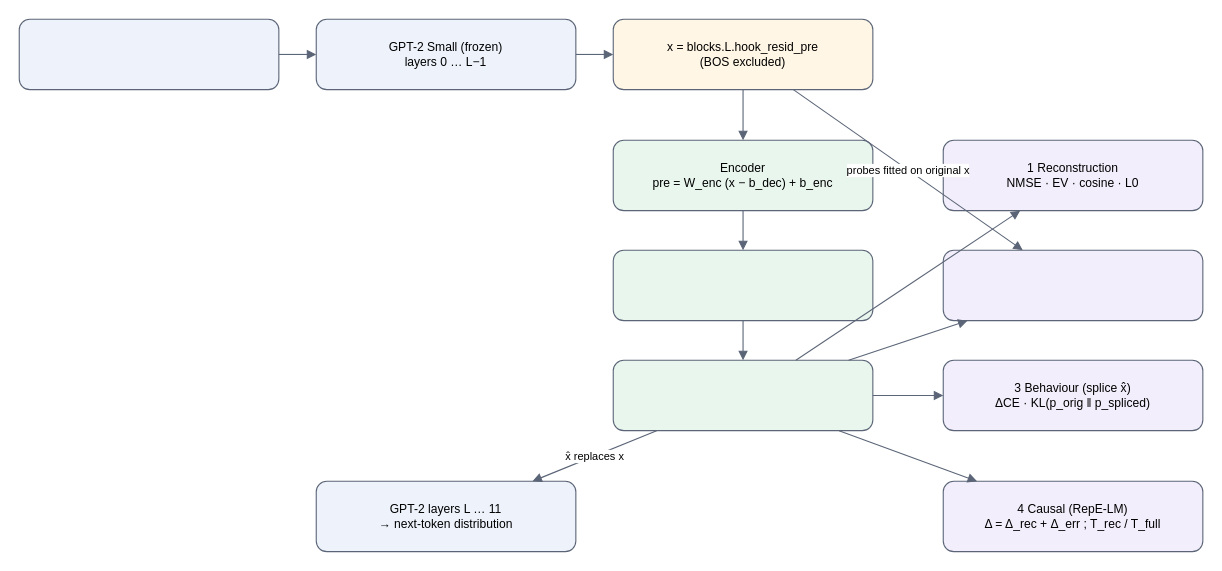
The diagram is 1222 pixels wide and 571 high, and some of its shapes have lost their labels. The shapes that lost their labels are listed below. From the top down, each one's centre as x and y in pixels, then its label:
At (148,54): "Data OWT · GoT (cities+neg_cities) RepE-LM persona pairs".
At (742,285): "Activation → z ReLU · TopK(k=128) · BatchTopK · JumpReLU".
At (1072,285): "2 Information frozen probe on x̂ · re-fit probe noise and PCA references".
At (742,395): "Decoder x̂ = W_dec z + b_dec ; e = x − x̂".
